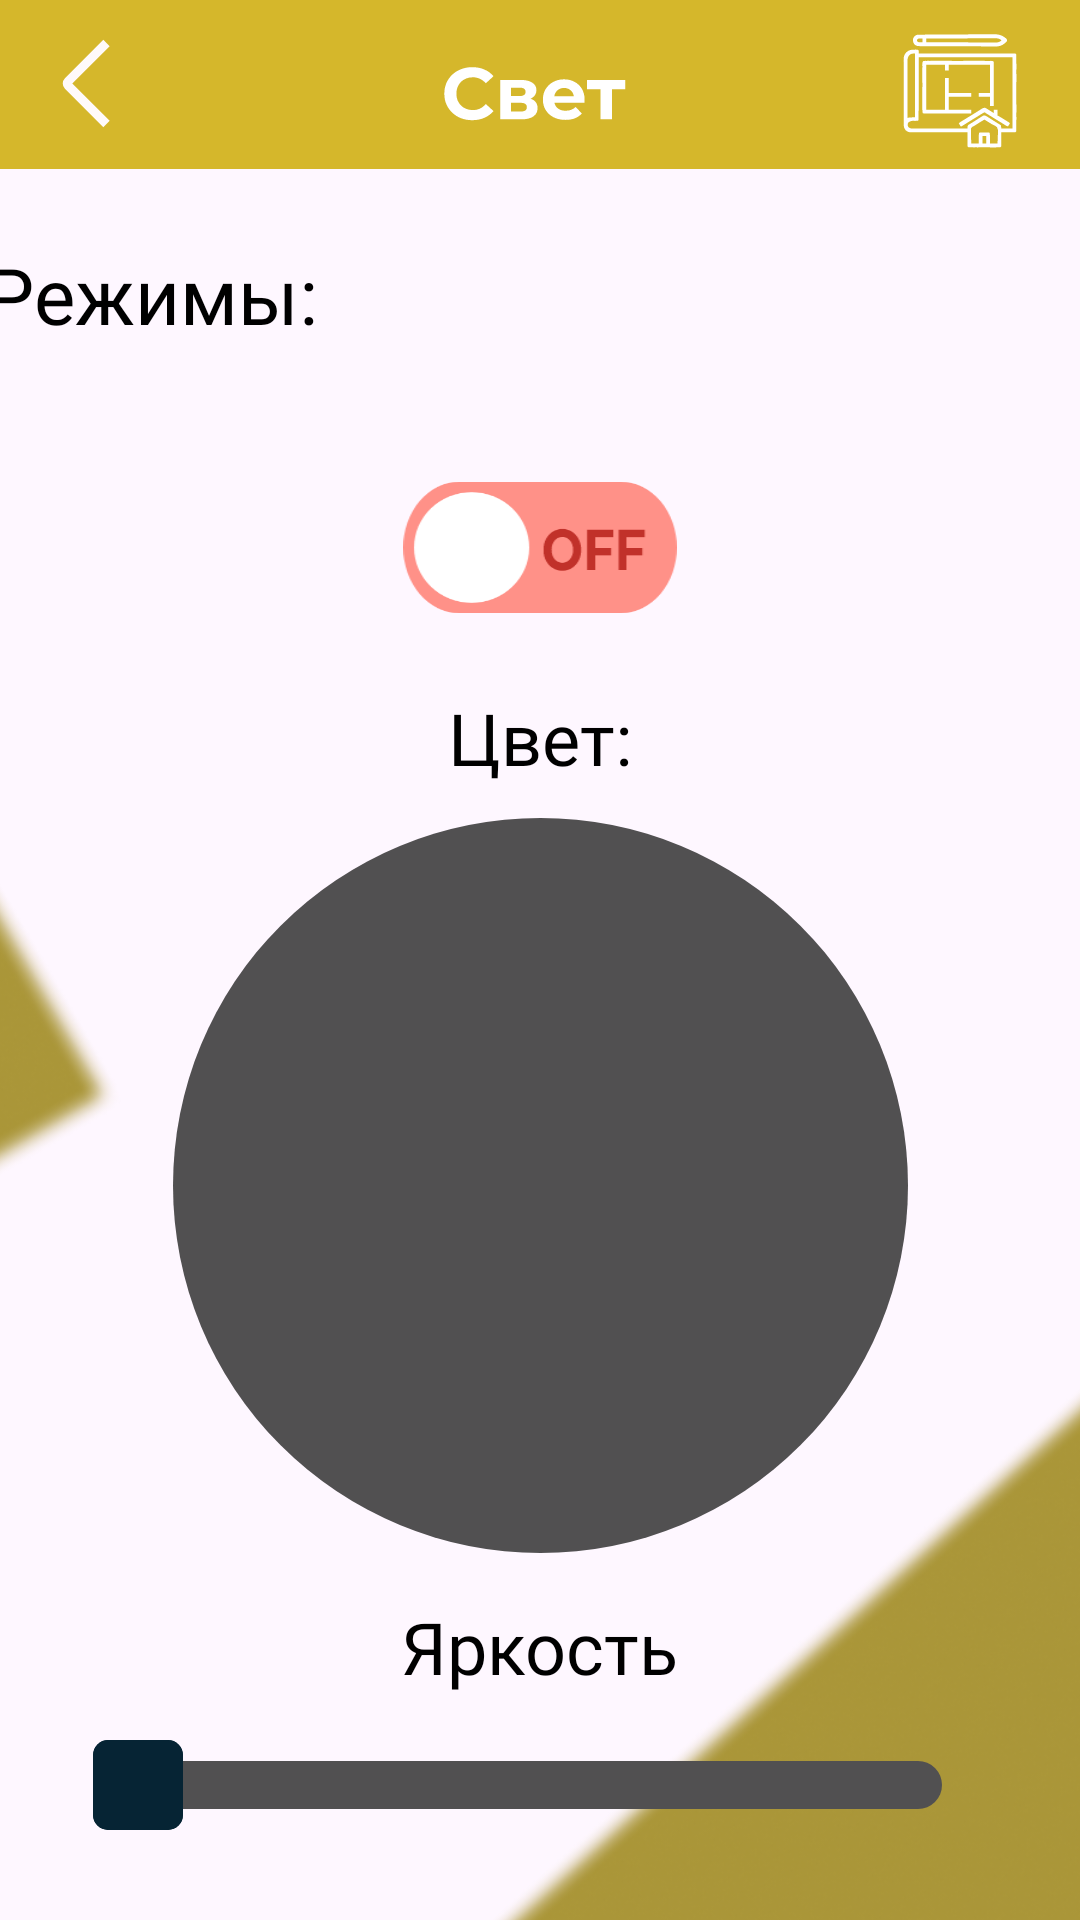

Locate icon controls on the screen. Image size 1080w x 1920h, boxes as (x1, y1, x2, y2).
deviceback: (62, 40, 110, 127)
mapback: (903, 34, 1017, 148)
